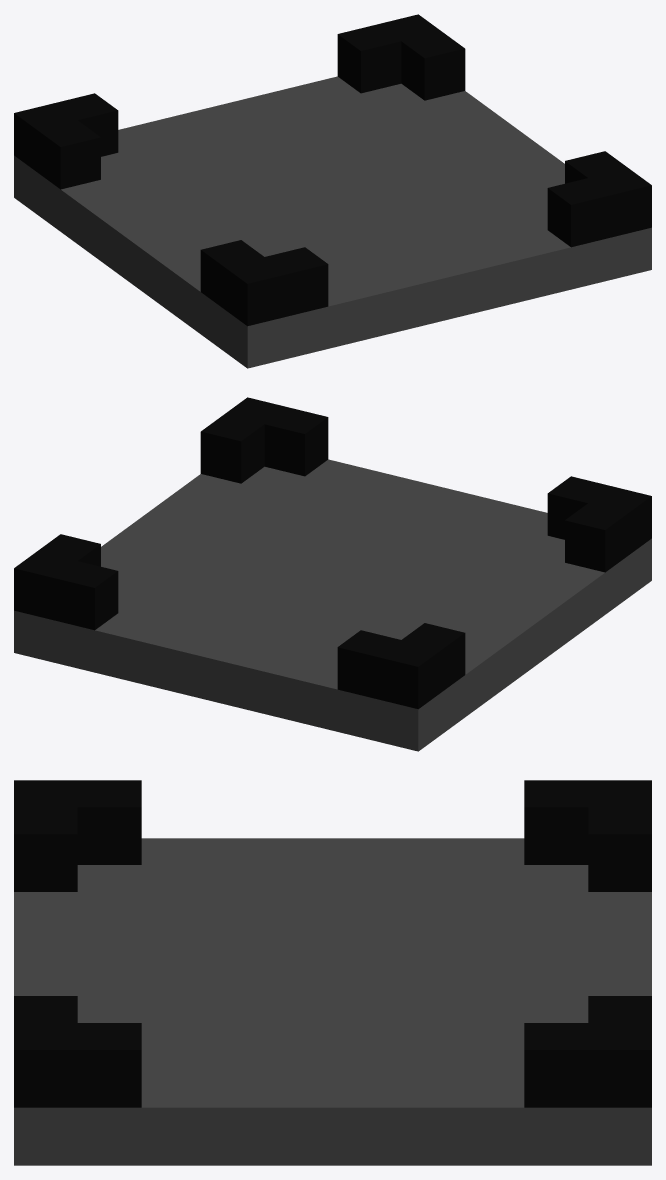
Rendered from SimpleFloor.fbx.
3 views of the same model, one above another, from view 1: azimuth 30°, elevation 25°; view 2: azimuth 150°, elevation 25°; view 3: azimuth 270°, elevation 25° (orthographic). The views are drawn at different scales.
Parts seen in each view (by area): view 1: Matrix; view 2: Matrix; view 3: Matrix.
Boxes of the visible parts, x1=… form: Matrix: x1=14, y1=14, x2=651, y2=368; Matrix: x1=14, y1=397, x2=651, y2=751; Matrix: x1=14, y1=780, x2=651, y2=1165.
Size of the model in its own units: 10 by 2 by 10.
Materials: 1 (1 with a texture image).
